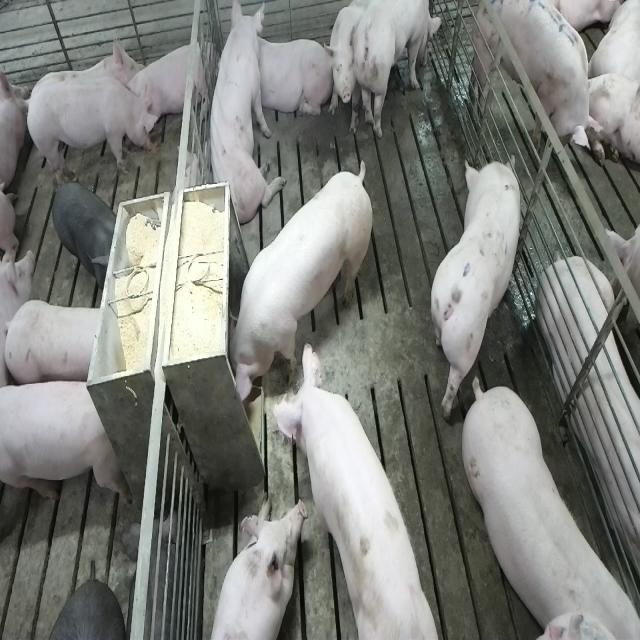Feeding: (266, 334, 446, 634), (219, 161, 369, 409)
Sitting: (204, 4, 286, 227), (326, 2, 444, 142)
Standing: (456, 374, 634, 636), (428, 154, 520, 422), (466, 0, 602, 151), (3, 377, 127, 513), (21, 78, 157, 182), (7, 297, 112, 388), (48, 175, 118, 288)
Sternal_lying: (539, 248, 640, 587), (202, 496, 304, 640), (130, 36, 210, 132), (250, 34, 331, 120)
